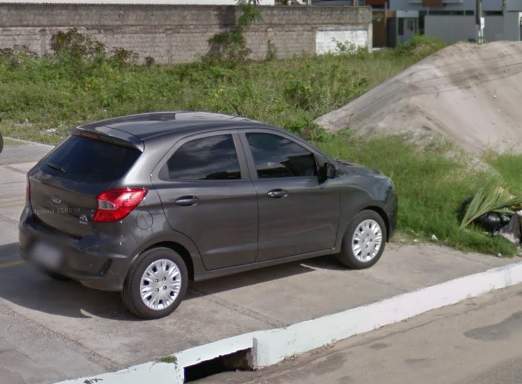car: (15, 82, 401, 322)
